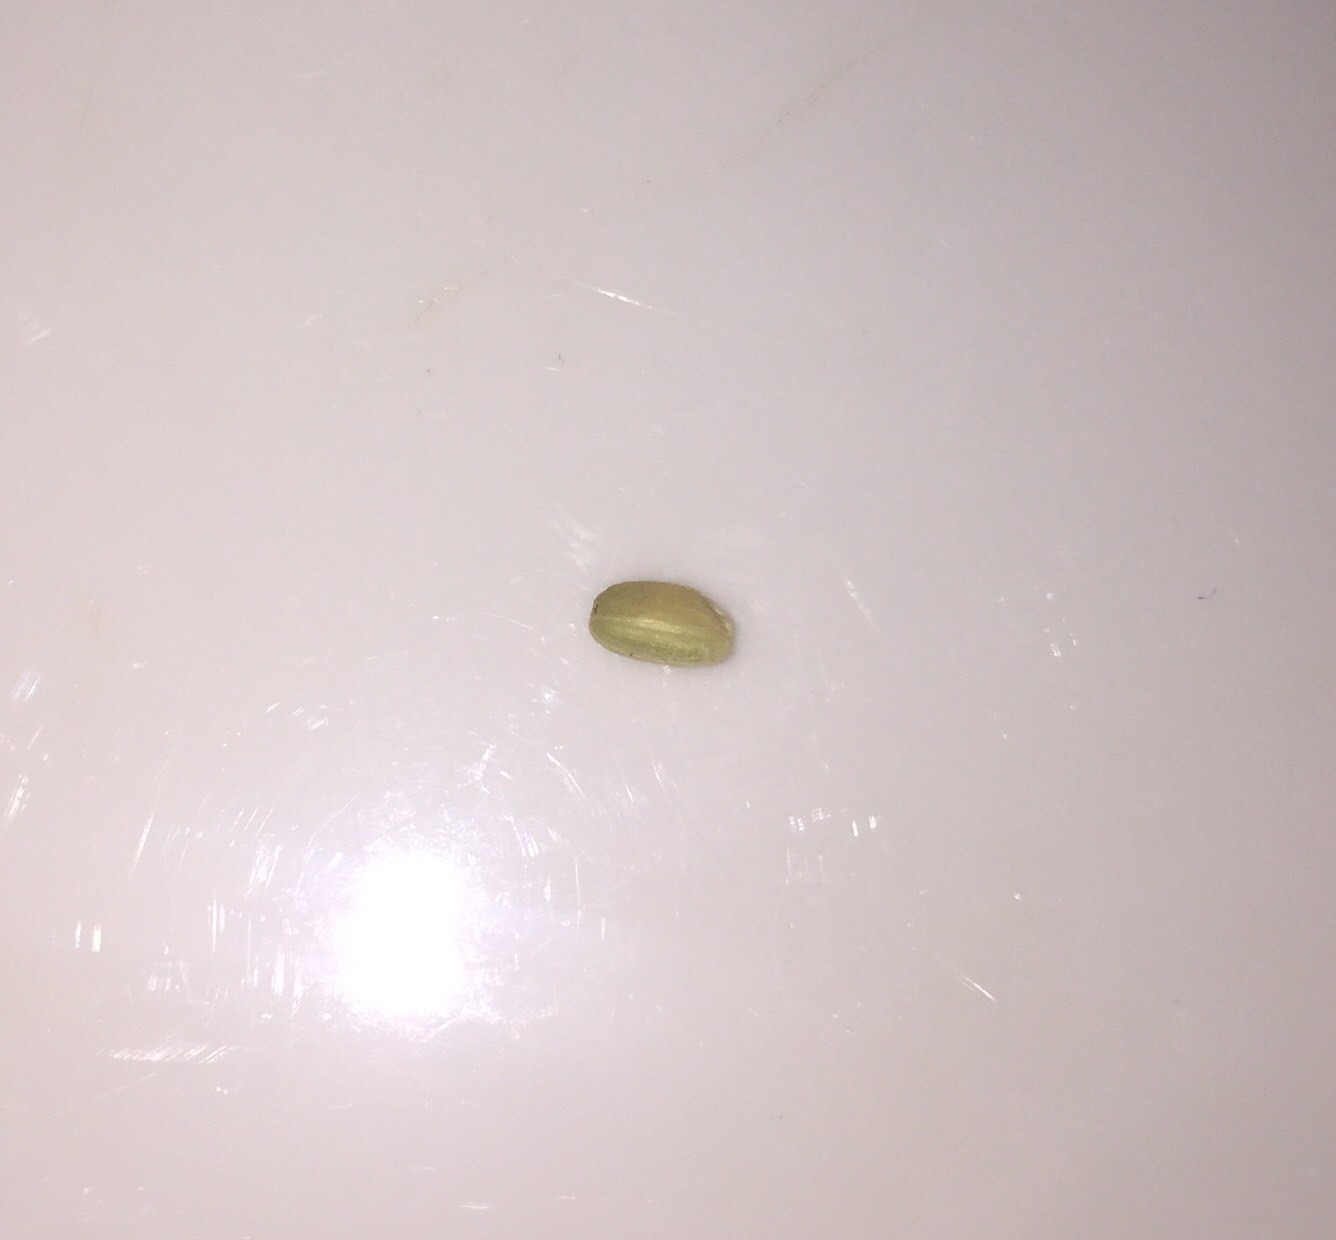Gao Lut Bac: (567, 558, 739, 693)
